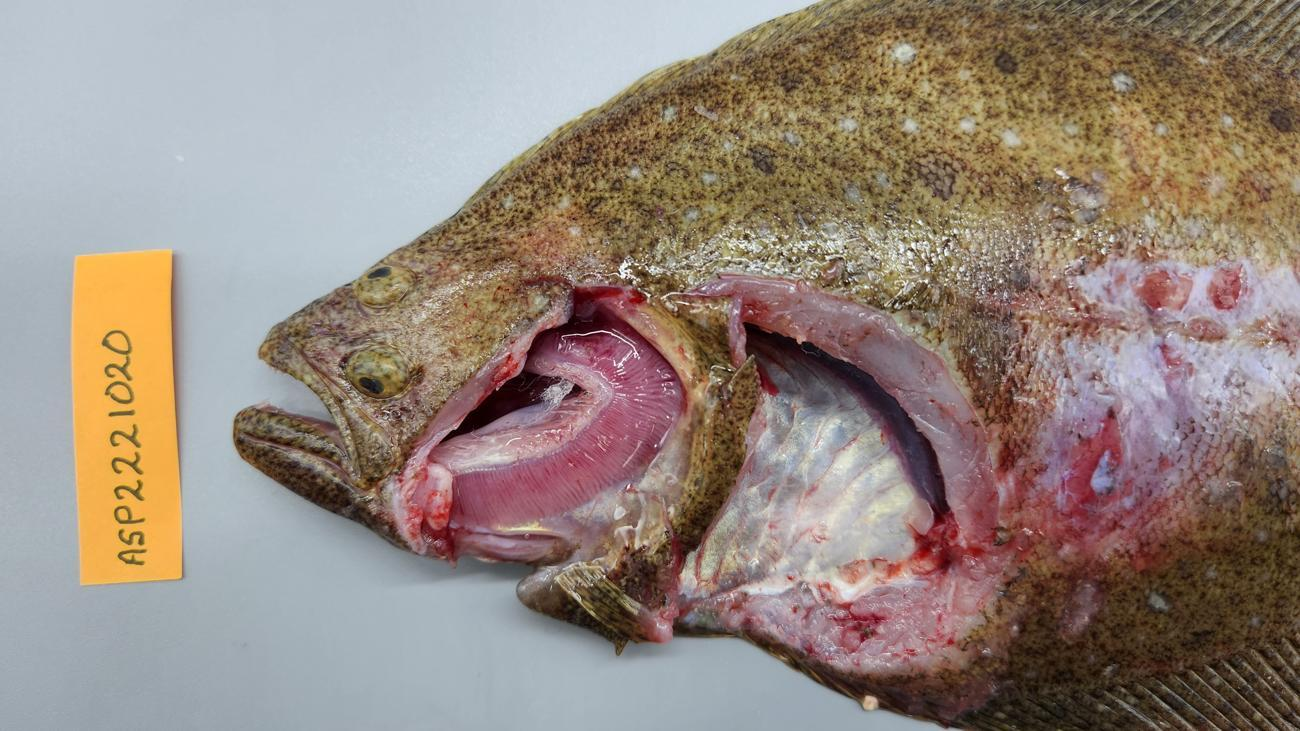SPASQ: (680, 390, 931, 596)
